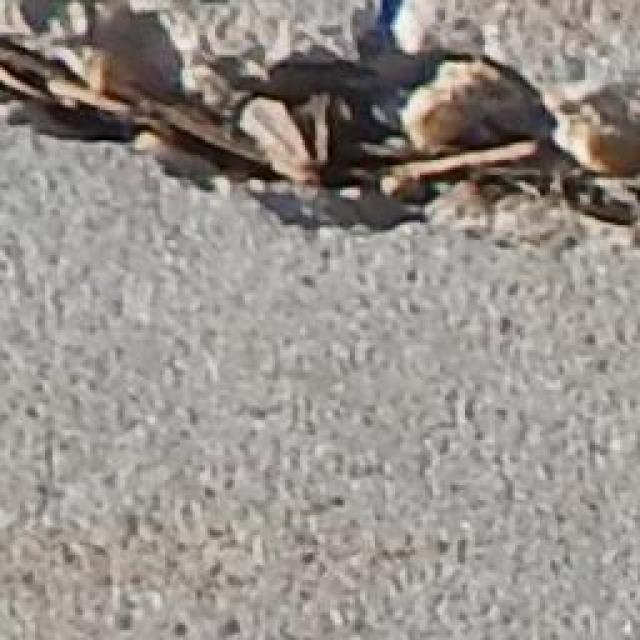concrete-crack: (0, 0, 640, 241)
